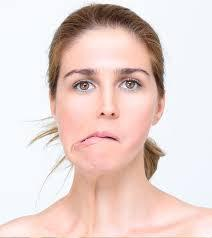normalEye: (62, 67, 151, 96)
strokeMouthSevere: (67, 125, 125, 153)
